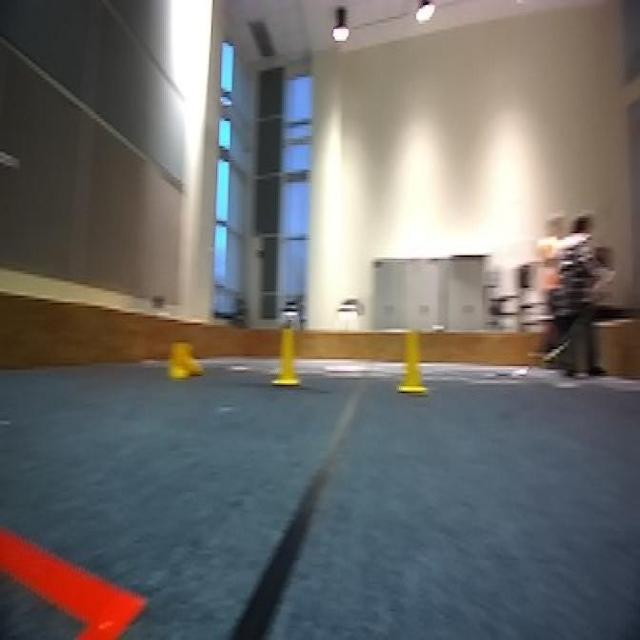frc_cone: (394, 328, 432, 398), (270, 323, 306, 388), (167, 340, 203, 380)
